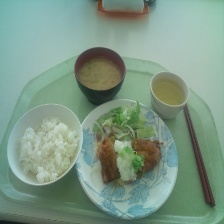rice: (18, 116, 79, 183)
